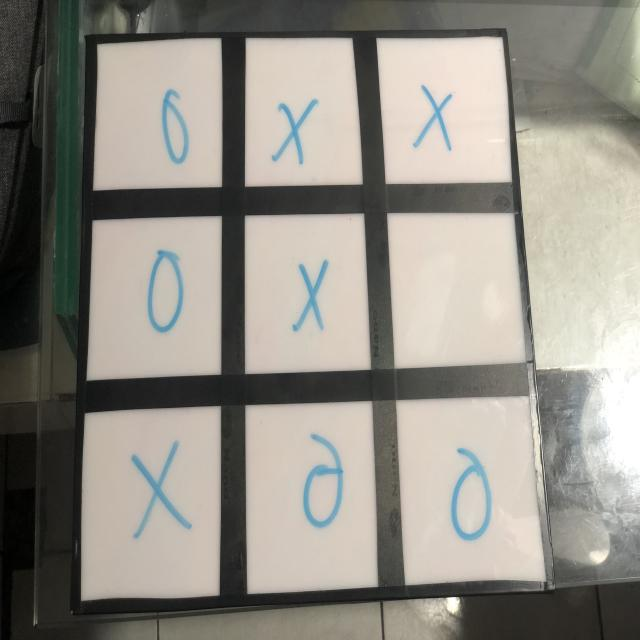null: (387, 208, 524, 370)
o: (144, 237, 194, 336), (297, 439, 345, 533), (447, 448, 492, 544), (161, 88, 194, 166)
table: (34, 6, 555, 617)
x: (131, 440, 189, 539), (411, 81, 454, 156), (272, 98, 318, 166), (289, 257, 329, 333)
